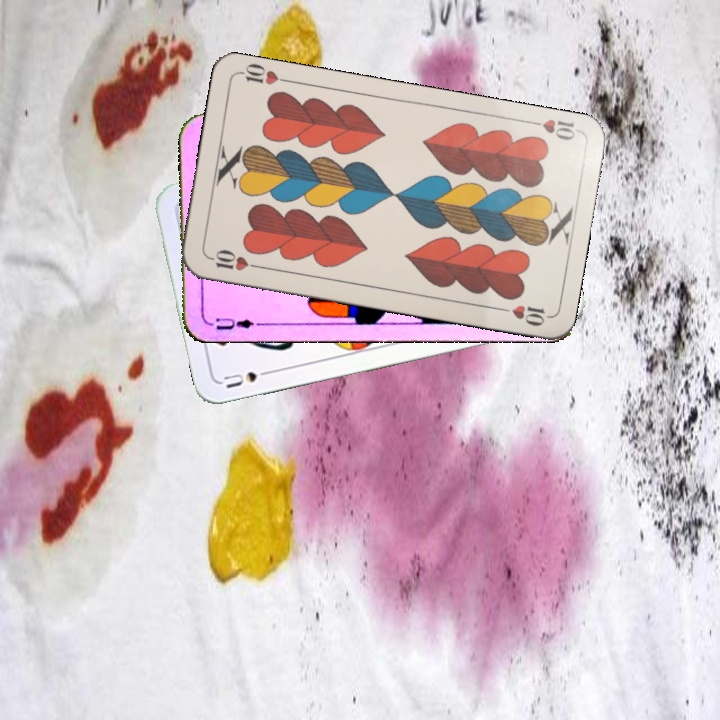EU: (212, 313, 256, 333)
H10: (205, 246, 263, 274), (523, 115, 578, 143)
SU: (219, 365, 277, 391)
